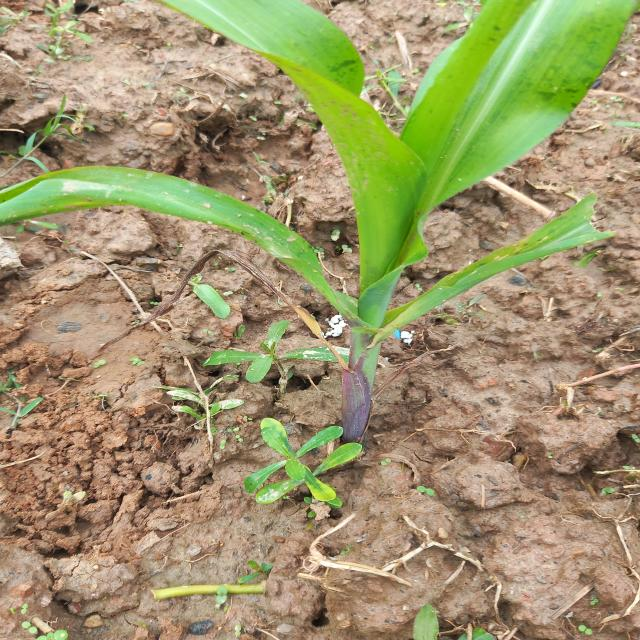maize: (8, 0, 640, 321)
weed: (239, 419, 358, 522), (218, 318, 328, 396)
